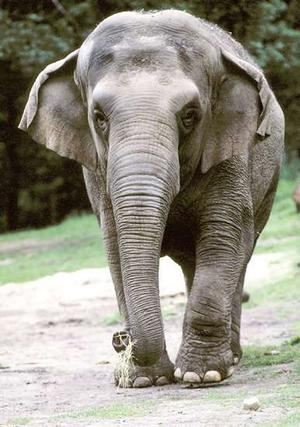elephant: (15, 6, 289, 400)
